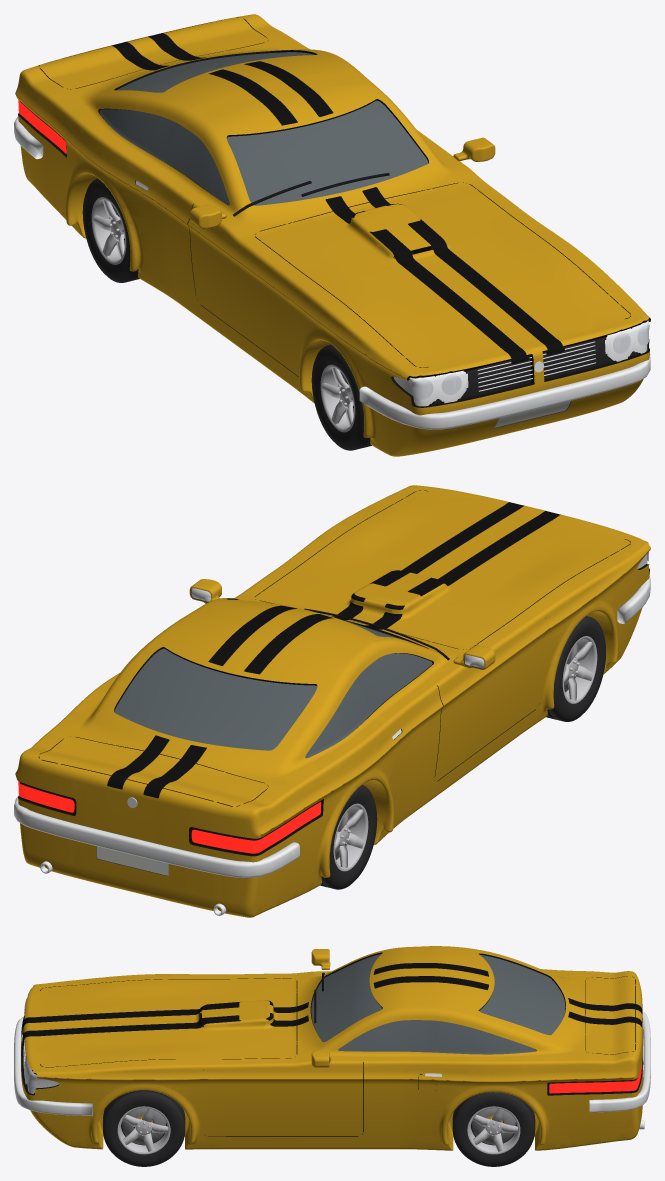
File: stallworth-ironside-454.fbx
The picture shows the model from 3 angles, top to bottom: view 1: azimuth 30°, elevation 25°; view 2: azimuth 150°, elevation 25°; view 3: azimuth 270°, elevation 25°; orthographic projection. The views are drawn at different scales.
Visible parts, largest first — view 1: Body_LOD0, Glass_LOD0, Accent_LOD0, BumperFront_LOD0, Walls_LOD0, Wheel_FR_LOD0, Wheel_RR_LOD0, Grille_LOD0, Chrome_LOD0, HeadlightLens_LOD0, GrilleBars_LOD0, Plate_LOD0 (+1 smaller); view 2: Body_LOD0, Glass_LOD0, Accent_LOD0, BumperRear_LOD0, Wheel_FR_LOD0, Wheel_RR_LOD0, Walls_LOD0, TaillightLens_LOD0, Plate_LOD0, Gloss_LOD0, BumperFront_LOD0; view 3: Body_LOD0, Glass_LOD0, Accent_LOD0, Wheel_FL_LOD0, Wheel_RL_LOD0, Walls_LOD0, BumperFront_LOD0, BumperRear_LOD0, TaillightLens_LOD0, Chrome_LOD0, Gloss_LOD0.
Boxes of the visible parts, x1,y1,x2,y2 form: Body_LOD0: (15, 14, 649, 456); Glass_LOD0: (99, 52, 428, 205); Accent_LOD0: (111, 33, 564, 364); BumperFront_LOD0: (359, 354, 650, 429); Walls_LOD0: (18, 17, 650, 428); Wheel_FR_LOD0: (311, 344, 371, 450); Wheel_RR_LOD0: (82, 178, 139, 282); Grille_LOD0: (430, 337, 639, 404); Chrome_LOD0: (135, 180, 648, 406); HeadlightLens_LOD0: (410, 324, 649, 399); GrilleBars_LOD0: (477, 341, 595, 391); Plate_LOD0: (494, 400, 570, 427); Body_LOD0: (15, 485, 650, 917); Glass_LOD0: (115, 621, 432, 758); Accent_LOD0: (107, 502, 560, 798); BumperRear_LOD0: (14, 797, 299, 877); Wheel_FR_LOD0: (546, 616, 605, 721); Wheel_RR_LOD0: (320, 785, 377, 889); Walls_LOD0: (18, 490, 649, 876); TaillightLens_LOD0: (18, 781, 321, 853); Plate_LOD0: (96, 846, 168, 875); Gloss_LOD0: (20, 782, 321, 855); BumperFront_LOD0: (617, 577, 650, 623); Body_LOD0: (21, 946, 642, 1150); Glass_LOD0: (311, 954, 565, 1054); Accent_LOD0: (23, 963, 642, 1041); Wheel_FL_LOD0: (103, 1090, 185, 1166); Wheel_RL_LOD0: (452, 1092, 535, 1166); Walls_LOD0: (21, 952, 642, 1136); BumperFront_LOD0: (14, 1016, 92, 1115); BumperRear_LOD0: (589, 1011, 650, 1112); TaillightLens_LOD0: (549, 1064, 641, 1093); Chrome_LOD0: (24, 1058, 441, 1093); Gloss_LOD0: (547, 1078, 637, 1094).
Size of what is drawn, in the model's own units: 2.13 by 1.35 by 5.17.
